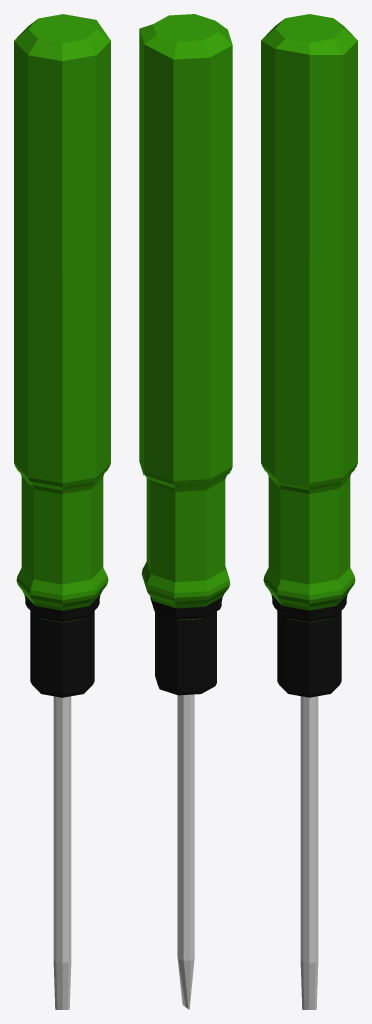
The picture shows the model from 3 angles, left to right: view 1: azimuth 90°, elevation 25°; view 2: azimuth 210°, elevation 25°; view 3: azimuth 270°, elevation 25°; orthographic projection.
Parts seen in each view (by area): view 1: Cylinder; view 2: Cylinder; view 3: Cylinder.
Part boxes in pixels (x1,y1,x2,y2): Cylinder: (14, 14, 110, 1009); Cylinder: (139, 14, 232, 1009); Cylinder: (261, 14, 357, 1009).
Bounding box in the file's own units: 200 × 2233 × 200.
